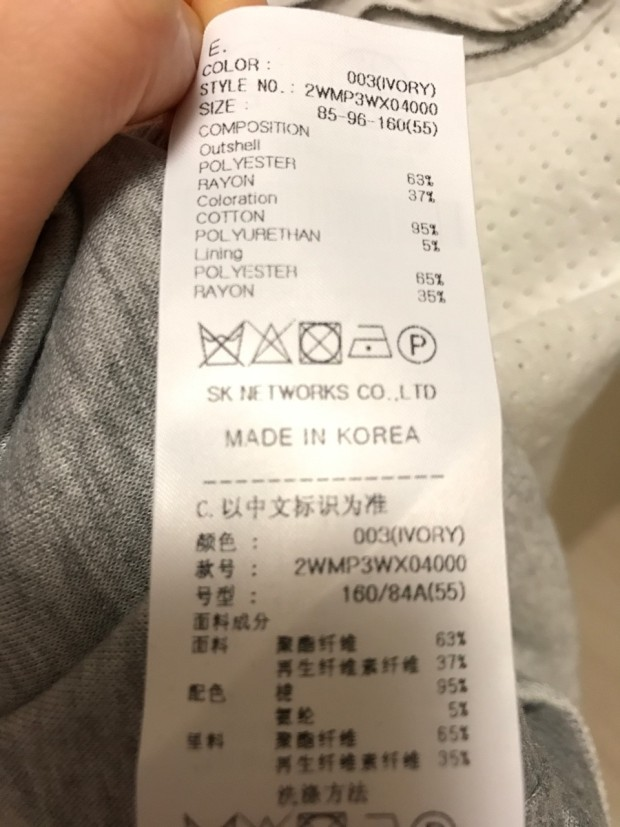ER_dry_clean_chemical: (396, 323, 440, 367)
ER_iron_low_temp: (348, 318, 393, 364)
ER_no_bleach: (248, 317, 293, 371)
ER_no_tumble_dry: (295, 318, 345, 367)
ER_no_wash: (196, 315, 245, 370)
